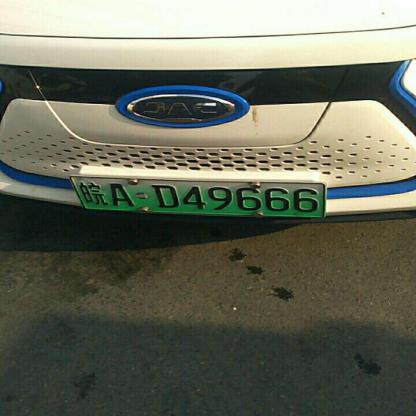lp: (70, 176, 323, 217)
